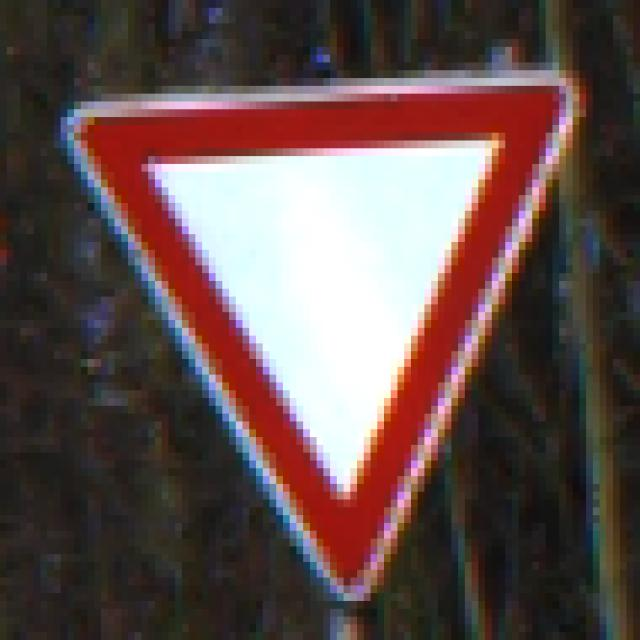Give Way: (62, 64, 587, 587)
